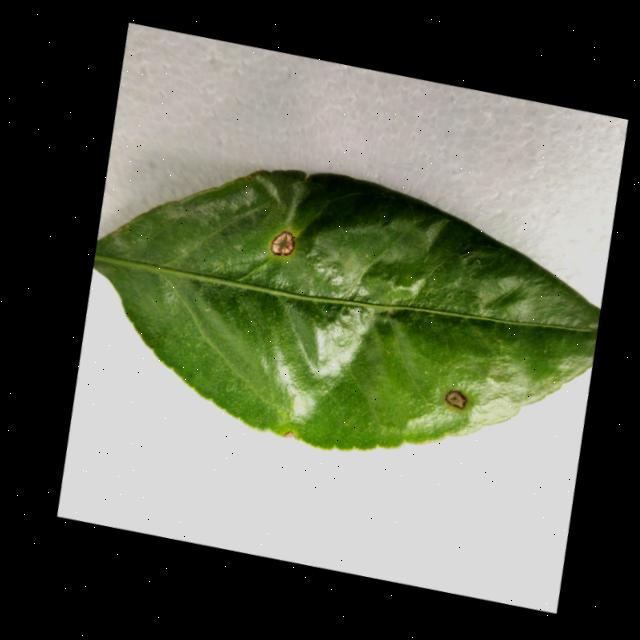antracnose: (94, 170, 599, 449), (270, 231, 294, 255), (445, 390, 466, 408)
